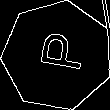P_W: (29, 33, 86, 78)
